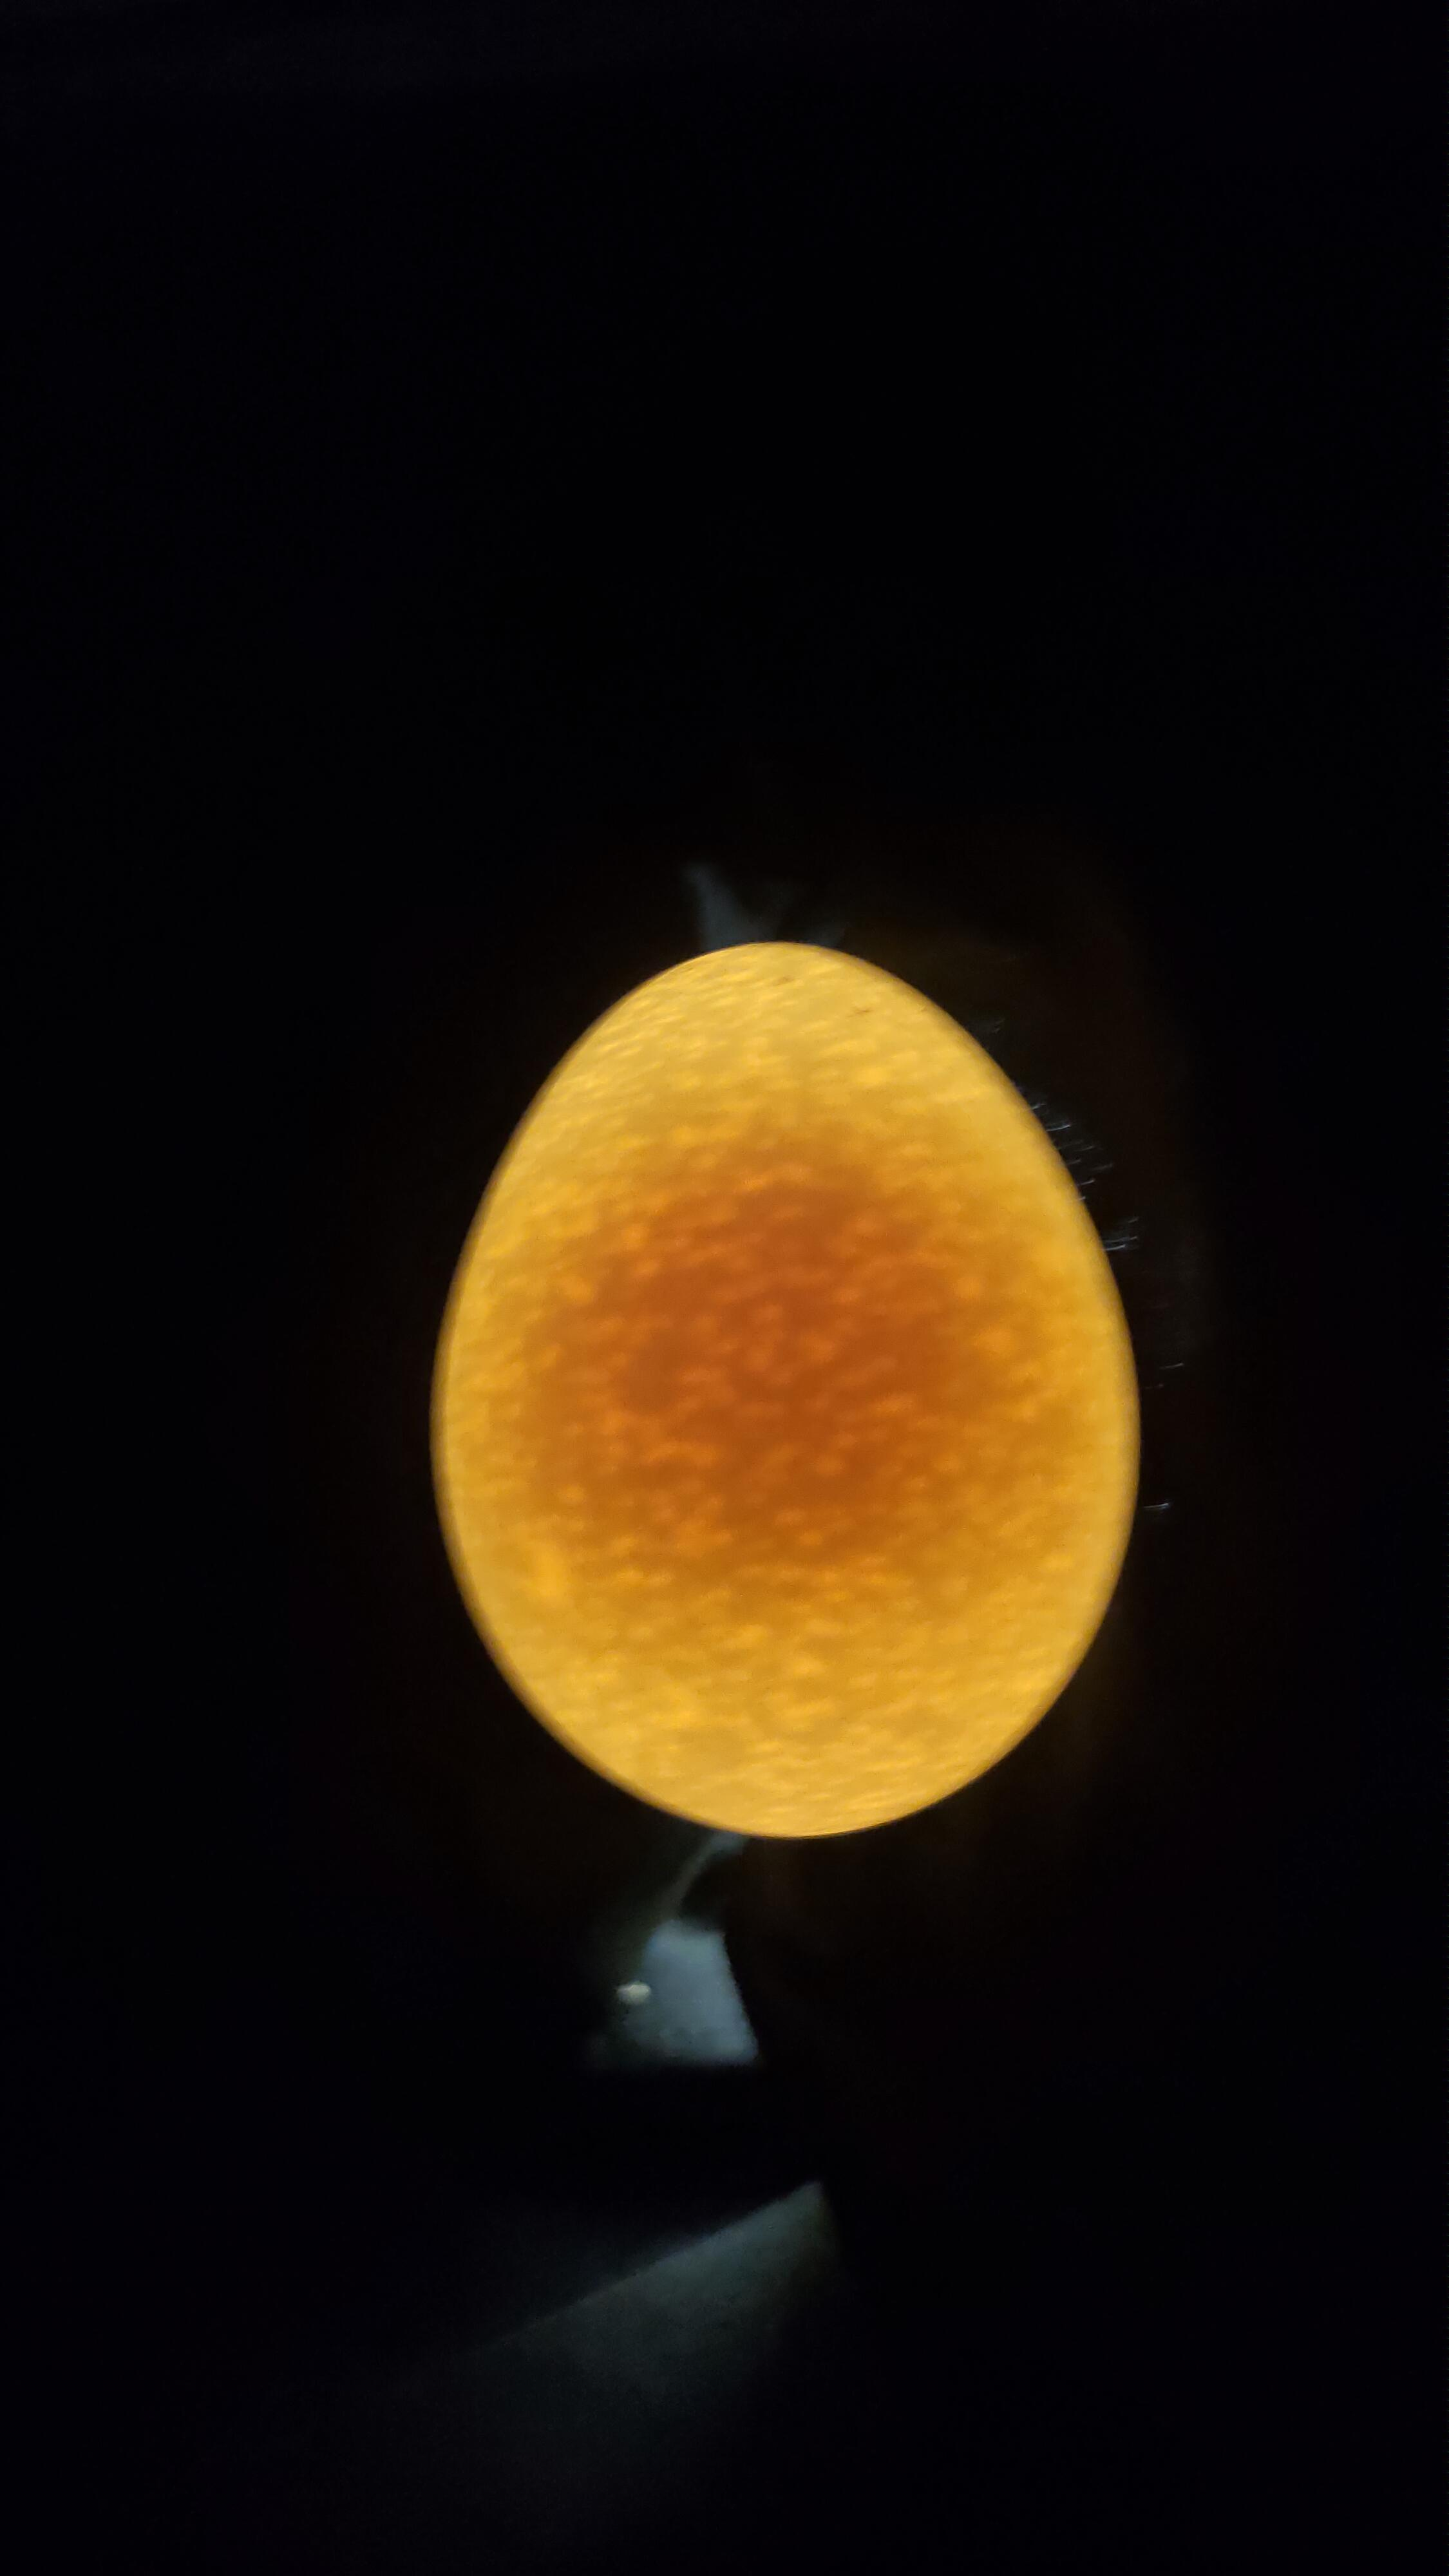A - Good: (393, 922, 1159, 1868)
